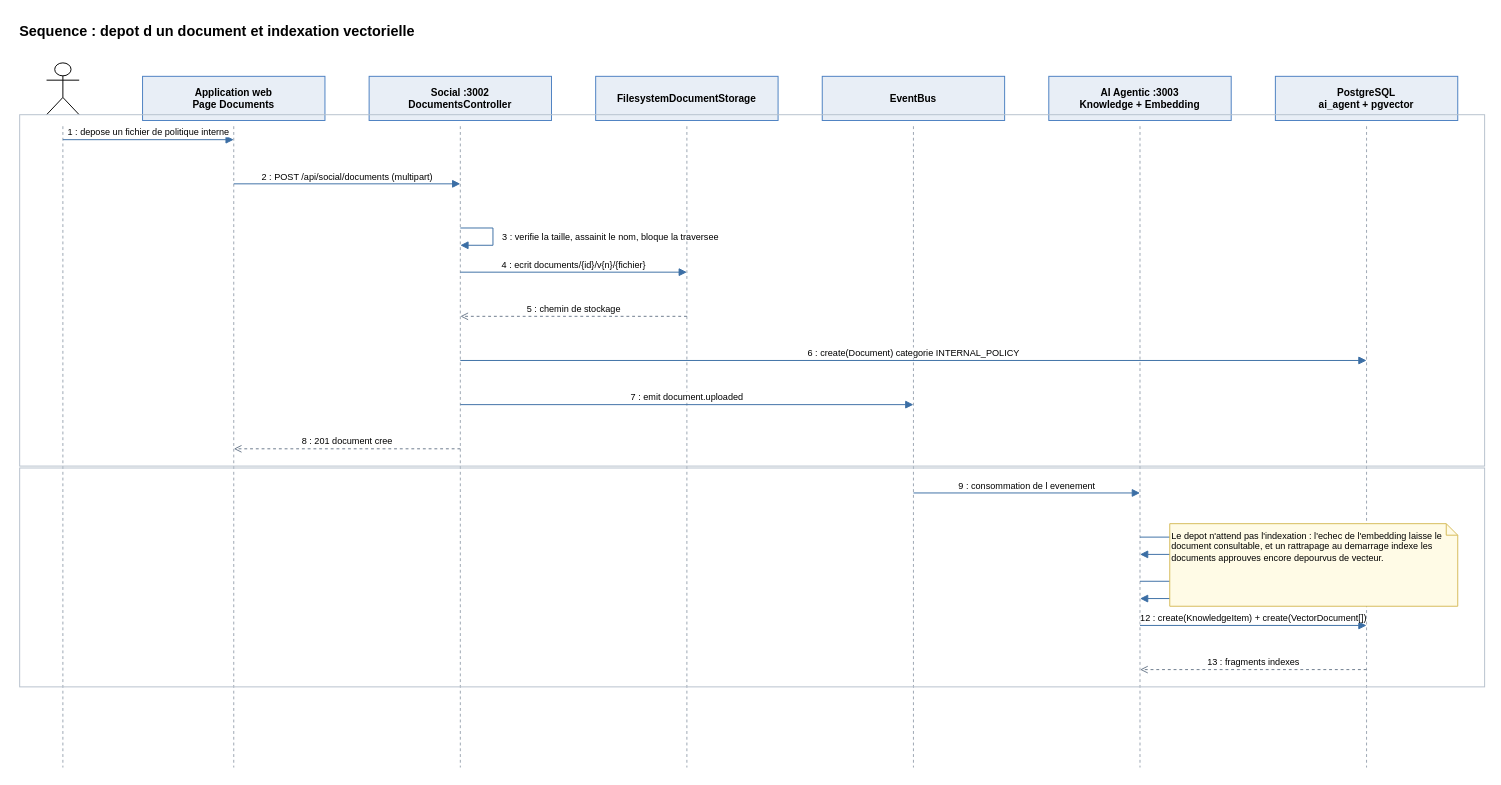
Some shapes in this 1501 by 785 pixel diagram are drawn without their labels. Here are the shapes that lost their labels. From the top down, the box of each, then its label:
(46, 62, 79, 115): Administrateur RH
(19, 114, 1485, 466): Depot synchrone
(19, 467, 1485, 687): Indexation asynchrone
